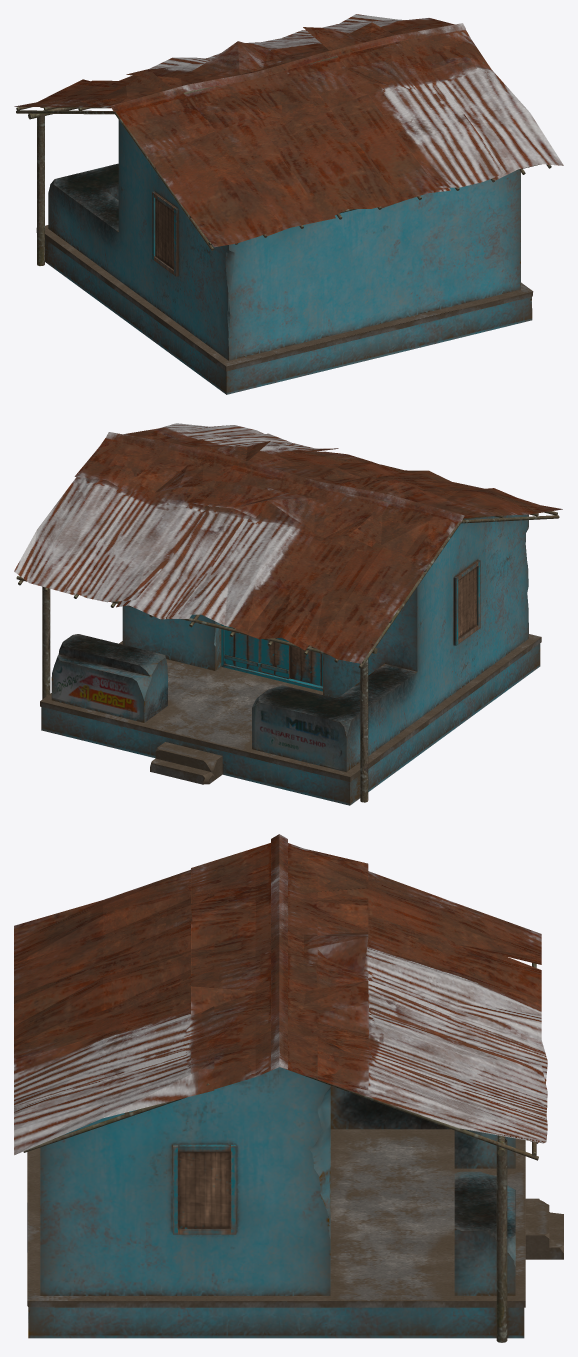
The model's file is shop.glb.
3 views of the same model, one above another, from view 1: azimuth 30°, elevation 25°; view 2: azimuth 150°, elevation 25°; view 3: azimuth 270°, elevation 25° (orthographic). The views are drawn at different scales.
Visible parts, largest first — view 1: Object031_06 - Default_0; view 2: Object031_06 - Default_0; view 3: Object031_06 - Default_0.
Part boxes in pixels (left/top/right/bottom): Object031_06 - Default_0: left=14, top=14, right=563, bottom=394; Object031_06 - Default_0: left=14, top=423, right=562, bottom=805; Object031_06 - Default_0: left=14, top=834, right=563, bottom=1342.
Size of the model in its own units: 58.49 by 35.71 by 59.68.
1 material, 1 textured.
